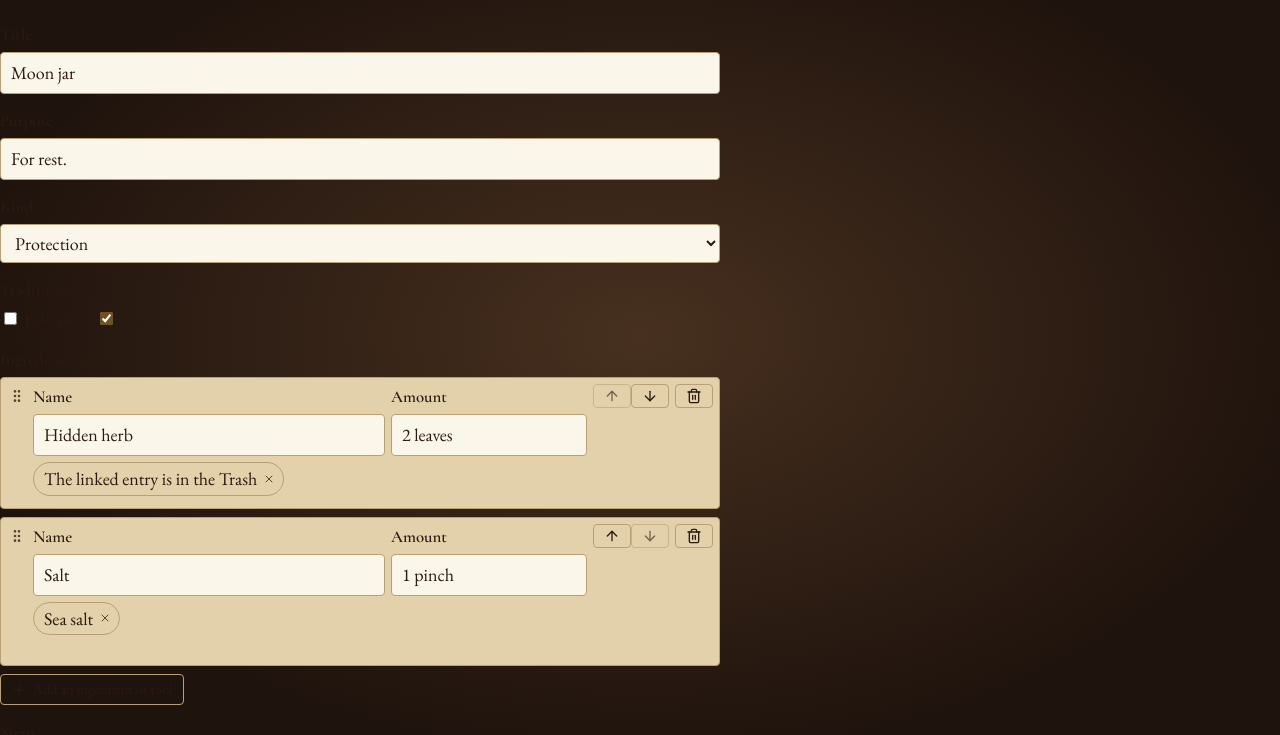
Scenario: Spell form › Reload the latest also reloads the kinds and traditions lists
Expected: the field labelled "Title" holds "Moon jar", [0,52,720,94]
Type " x" into the field labelled "Purpose".
click(360, 159); type(" x")  # box [0,138,720,180]
(page scrolled)
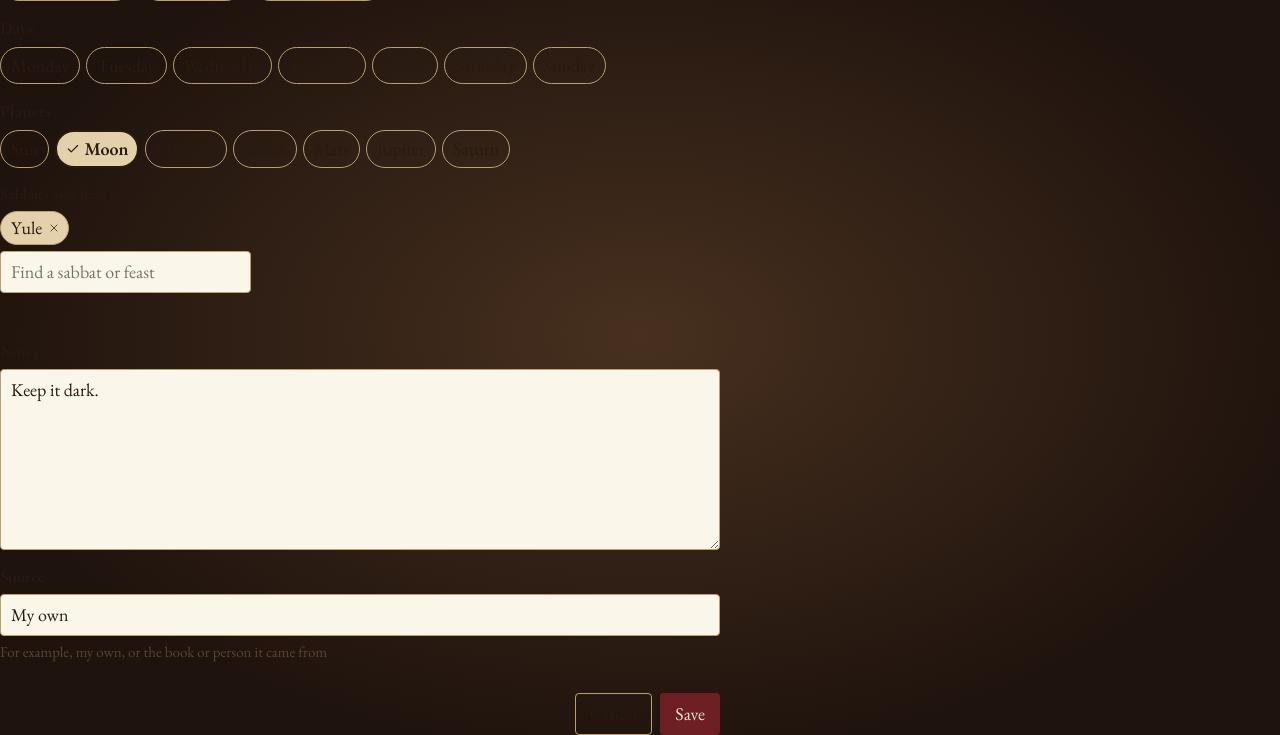
Click the button "Save".
click(690, 714)  # box [660,693,720,734]
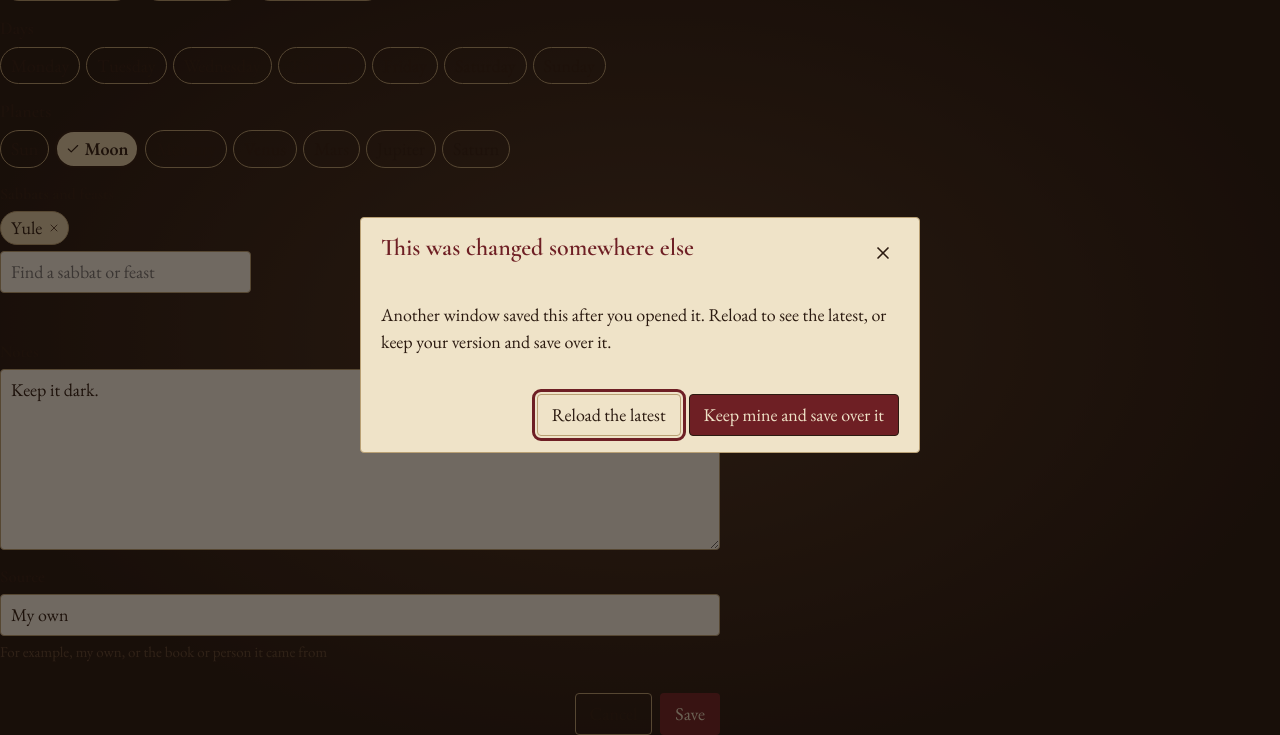
Click the button "Reload the latest".
click(609, 415)  # box [537,394,681,436]
(page scrolled)
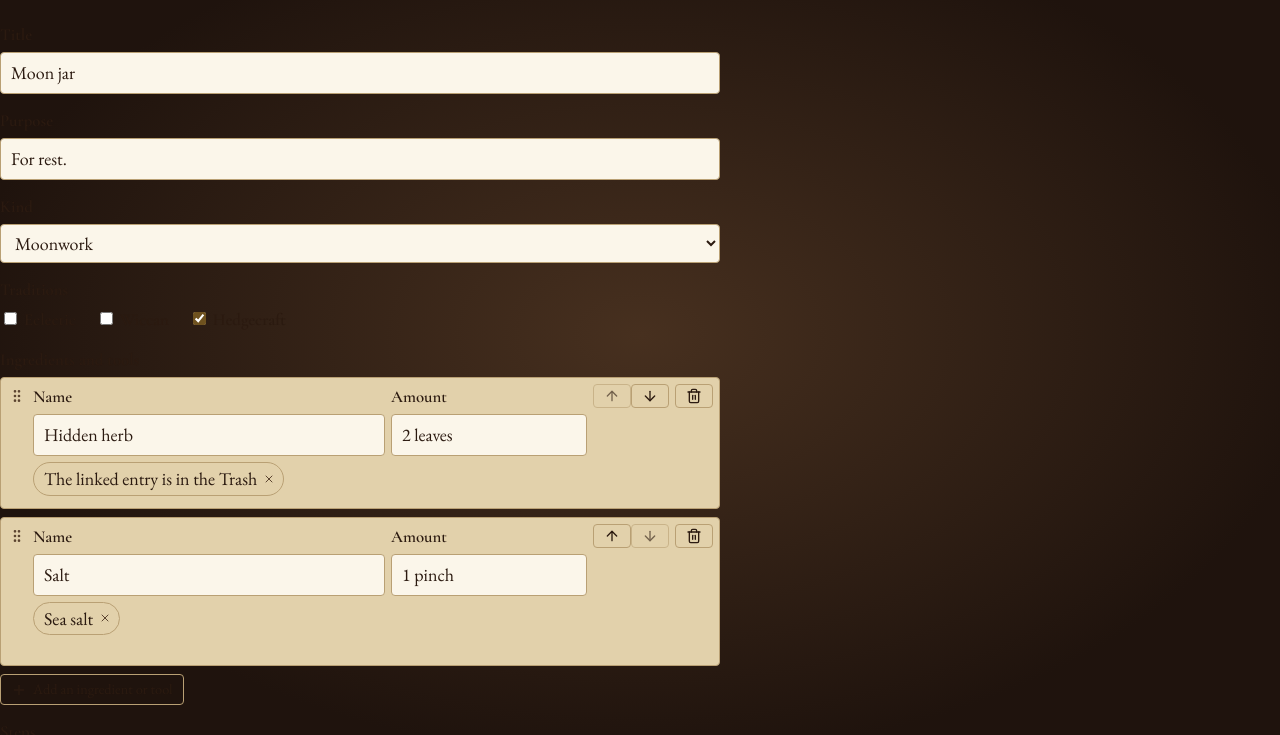
Result: the dropdown labelled "Kind" shows "Moonwork" at [0,224,720,263]
Result: the checkbox labelled "Hedgecraft" is checked at [193,312,206,325]
